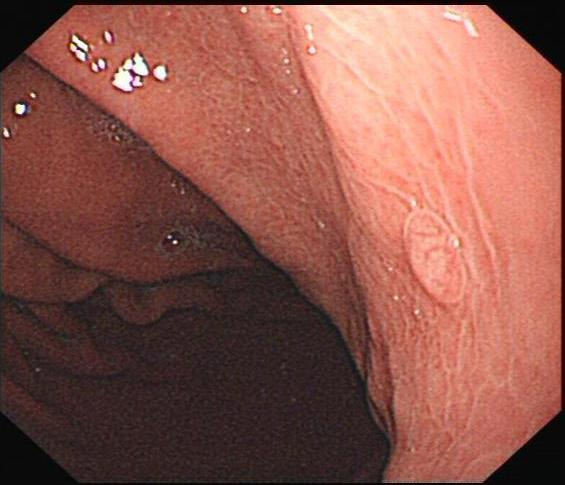Polyp: (394, 206, 471, 315)
